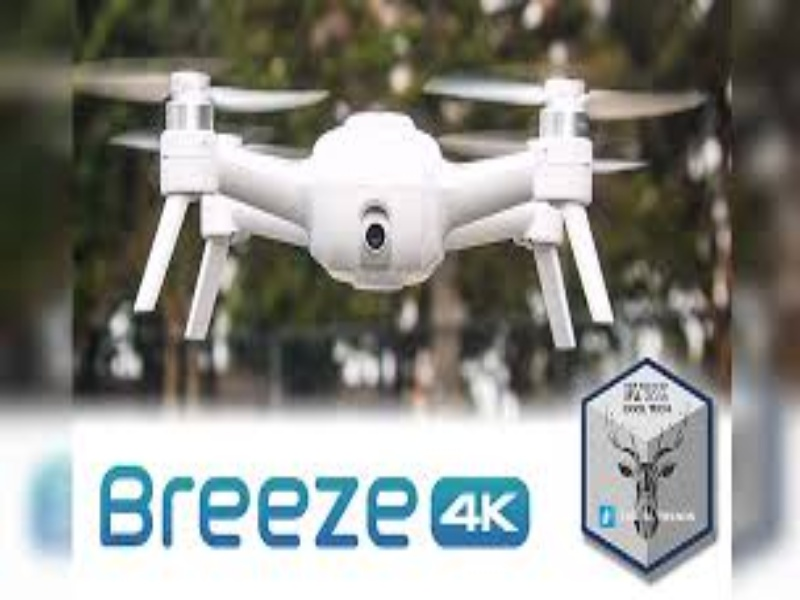drone: (90, 41, 648, 354)
